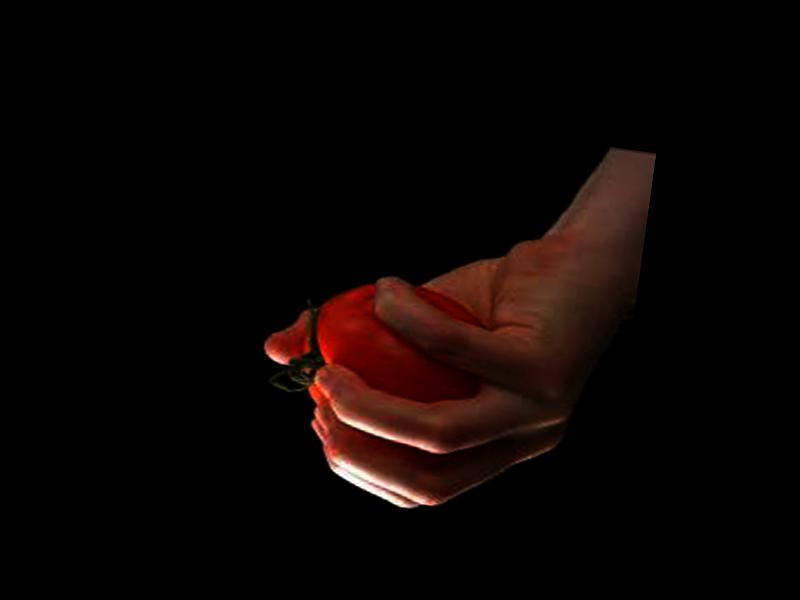Tomato: (303, 273, 497, 429)
